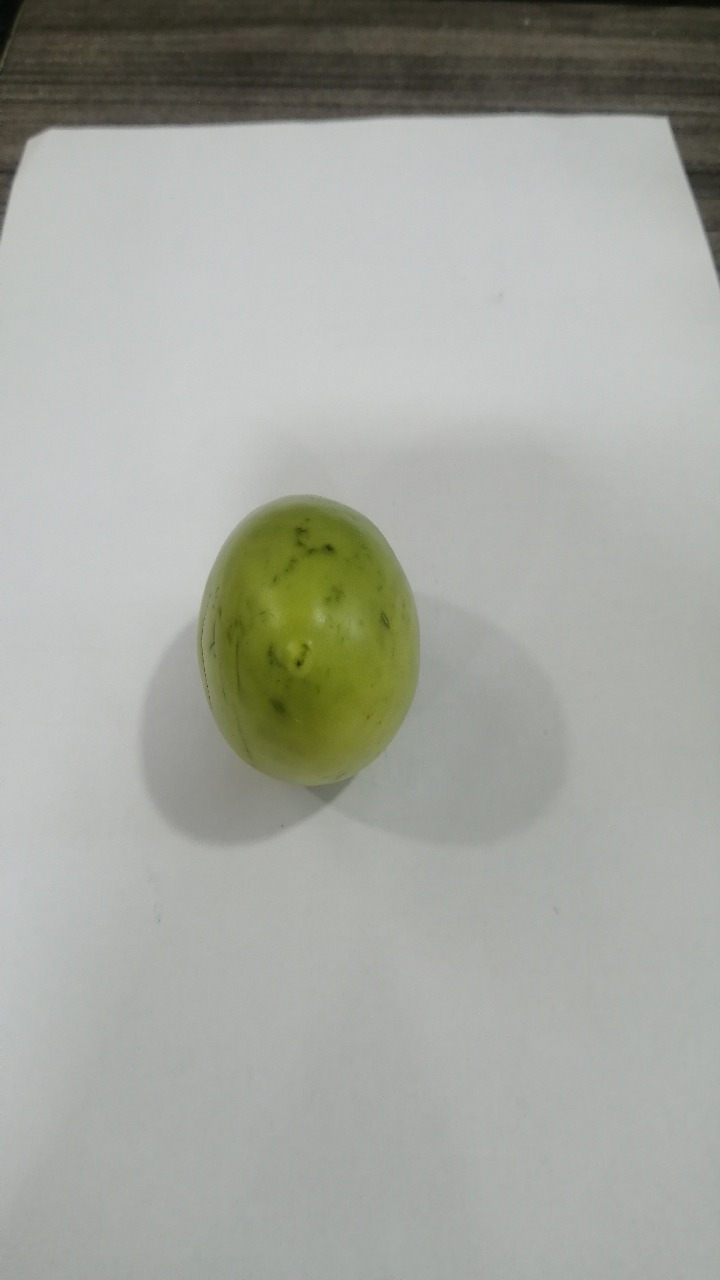tomateVerde: (184, 477, 443, 809)
